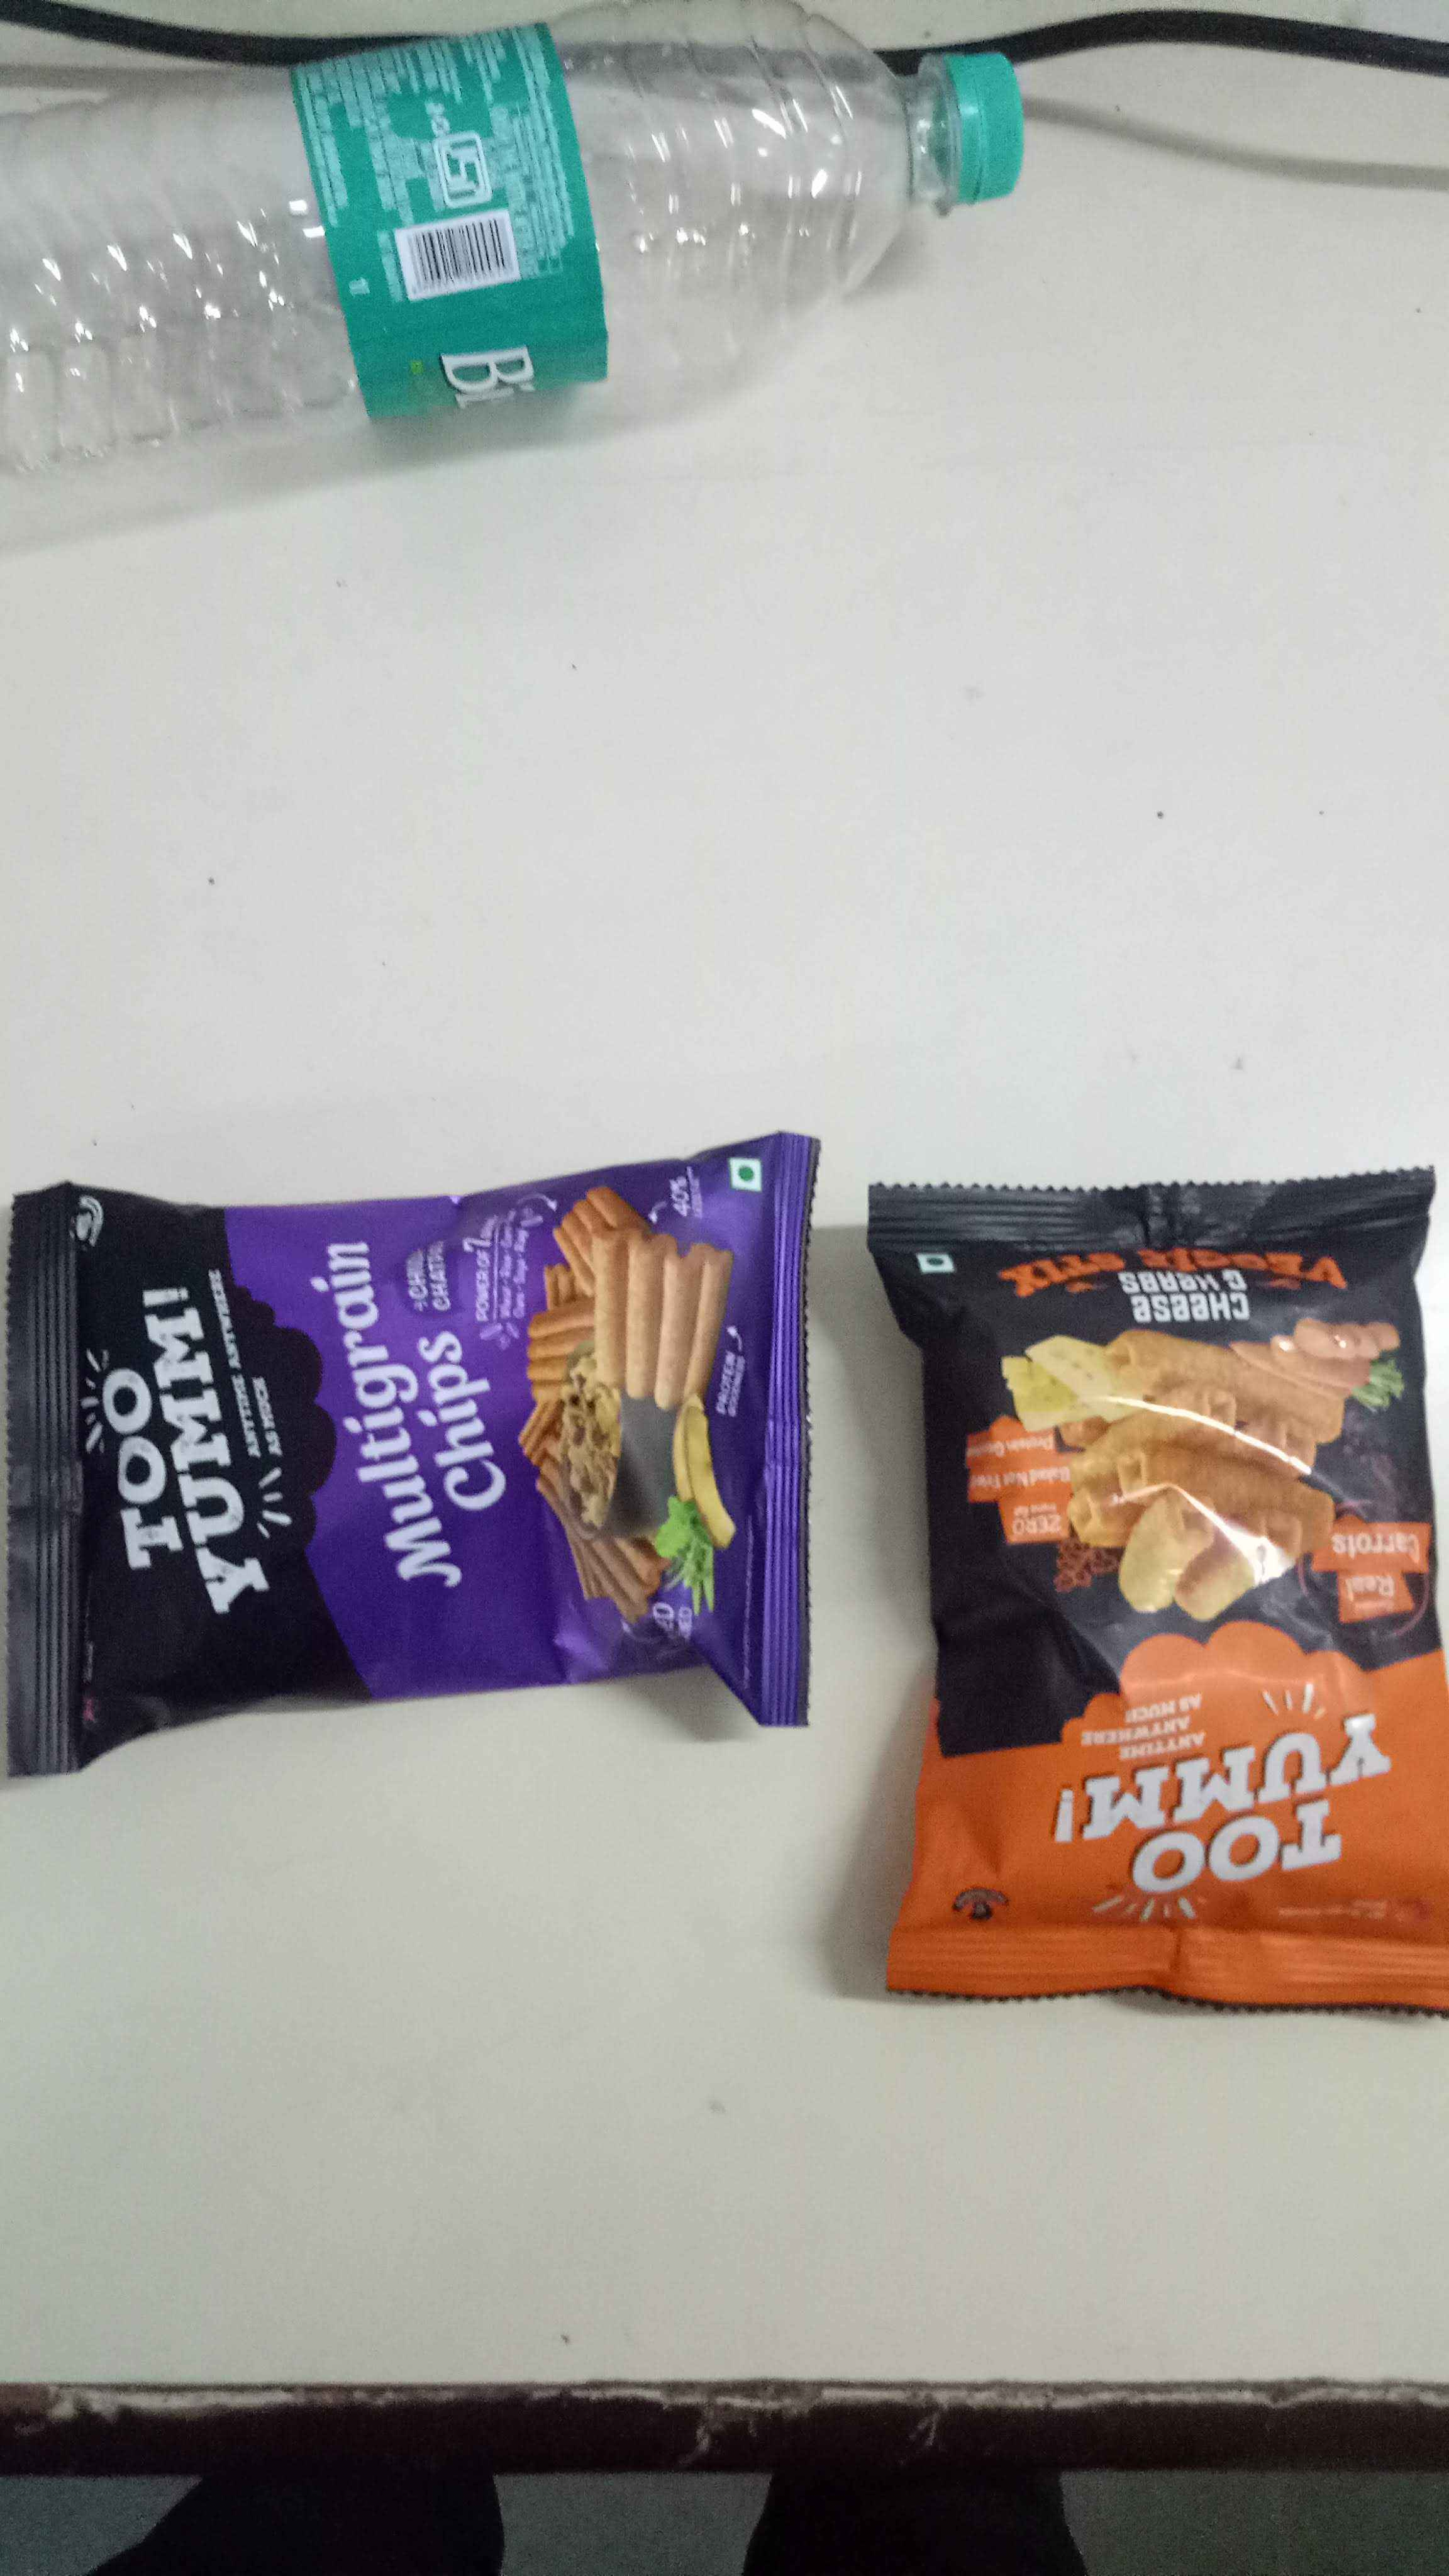Bisleri: (395, 248, 582, 418)
tooyumm: (1042, 1711, 1428, 1911), (99, 1261, 295, 1647)
